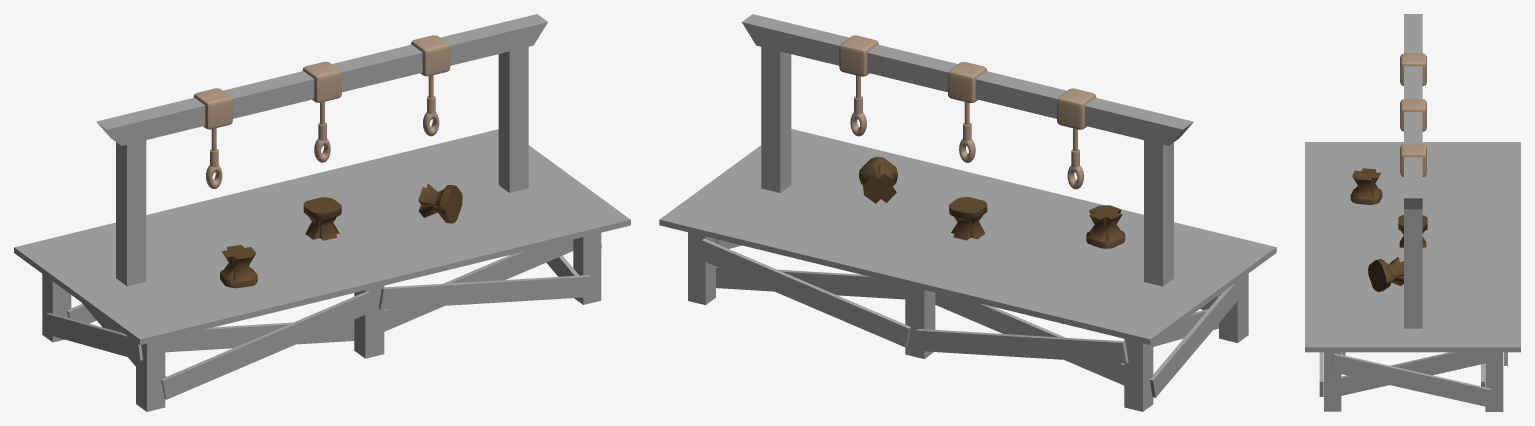
Rendered from p_gallows 1.fbx.
The picture shows the model from 3 angles, left to right: view 1: azimuth 30°, elevation 25°; view 2: azimuth 150°, elevation 25°; view 3: azimuth 270°, elevation 25°; orthographic projection. The views are drawn at different scales.
Parts seen in each view (by area): view 1: Noose2_pCylinder1; view 2: Noose2_pCylinder1; view 3: Noose2_pCylinder1.
Boxes of the visible parts, box(x1,y1,x2,y2) form: Noose2_pCylinder1: box(14, 14, 630, 411); Noose2_pCylinder1: box(659, 14, 1276, 411); Noose2_pCylinder1: box(1305, 14, 1520, 411).
Bounding box in the file's own units: 1800 × 875 × 800.
